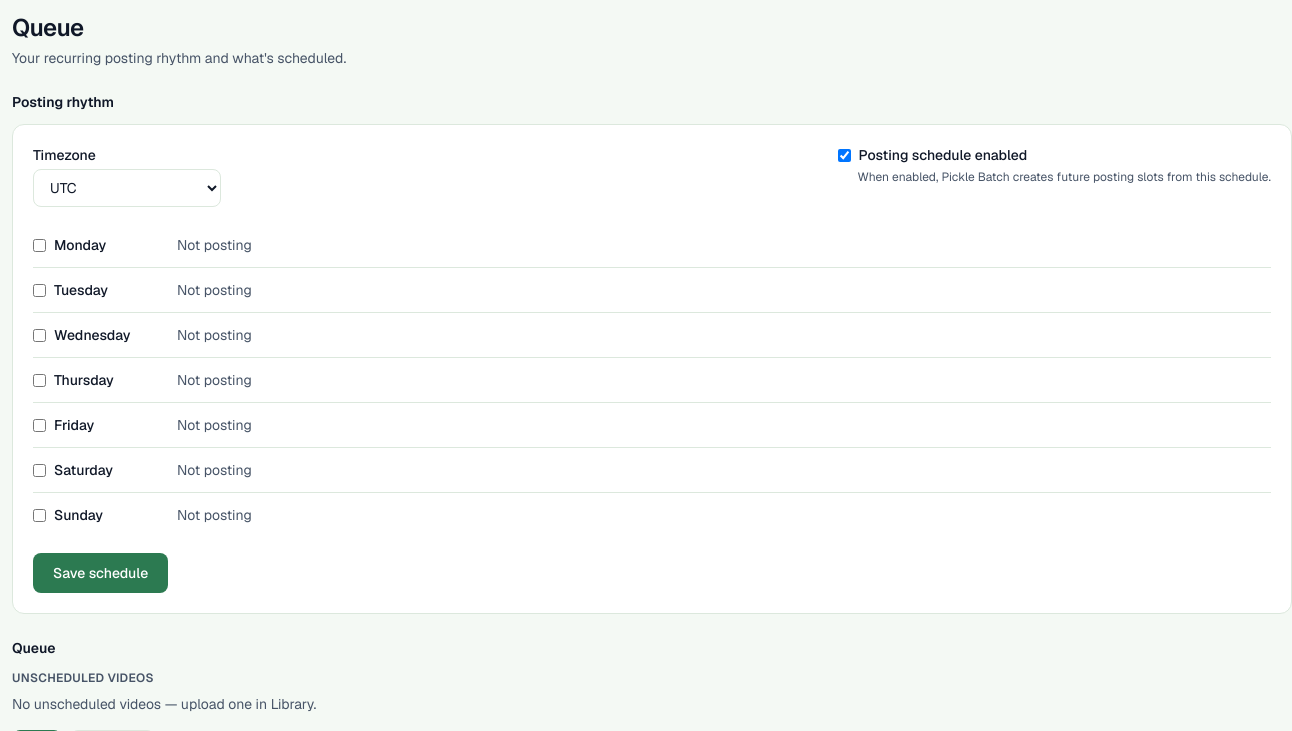
Test: QueuePage — posting rhythm › enables a weekday with zero committed times and no 09:00
Step 1. Click the checkbox labelled "Wednesday" → [40, 335], box top-left (33, 328), bottom-right (46, 342)
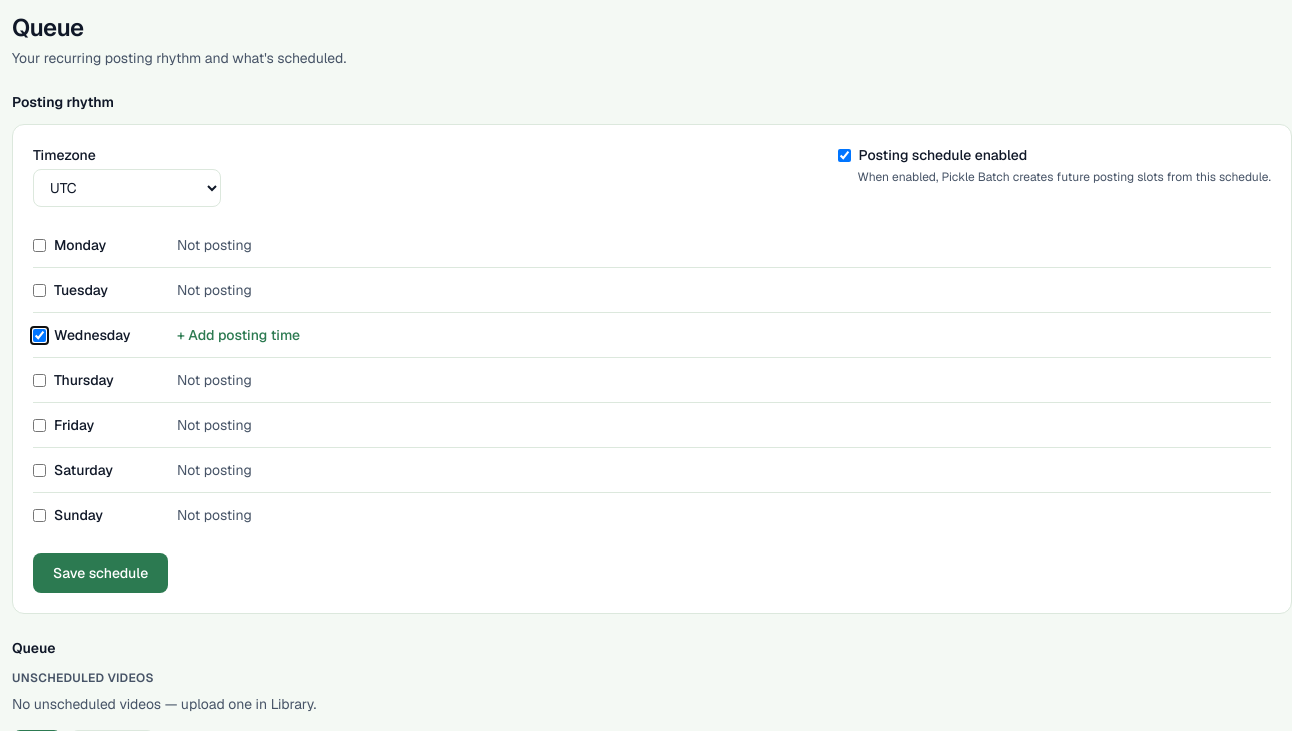
Expected: the checkbox labelled "Wednesday" is checked, top-left (33, 328), bottom-right (46, 342)
Expected: the button with aria-label "Add posting time for Wednesday" is shown, top-left (177, 325), bottom-right (300, 345)
